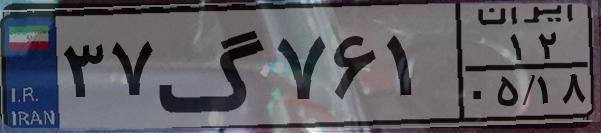0: (470, 70, 495, 125)
1: (385, 28, 445, 110), (508, 27, 537, 80), (535, 70, 560, 125)
2: (537, 27, 568, 80)
3: (57, 26, 110, 100)
5: (495, 70, 520, 125)
6: (330, 28, 385, 110)
7: (270, 28, 330, 110), (110, 28, 156, 98)
8: (560, 70, 590, 125)
گ: (156, 12, 270, 120)
